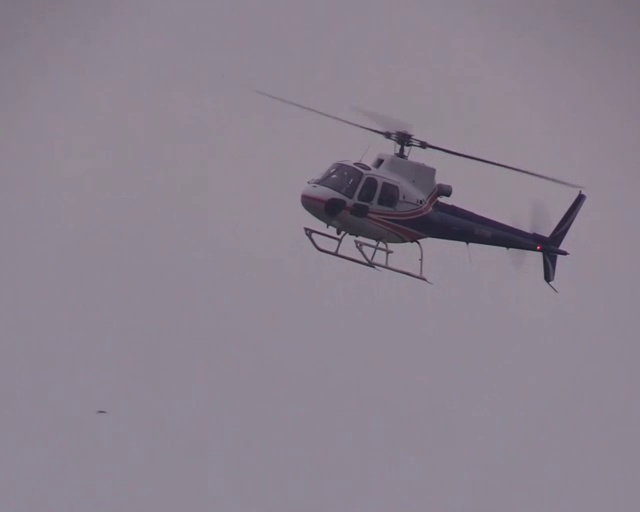HELICOPTER: (247, 88, 589, 287)
